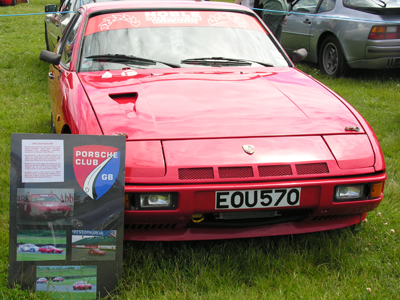licencePlate: (215, 188, 305, 210)
